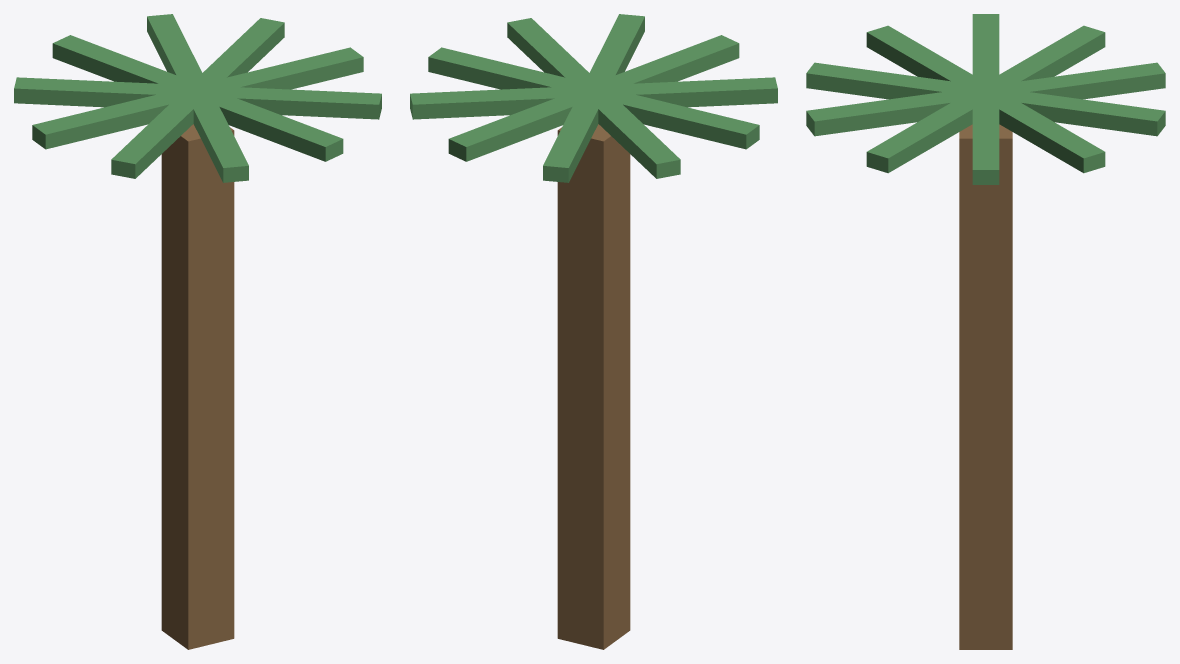
File: bh_cr_date_palm_01_lod0.glb
The picture shows the model from 3 angles, left to right: view 1: azimuth 30°, elevation 25°; view 2: azimuth 150°, elevation 25°; view 3: azimuth 270°, elevation 25°; orthographic projection.
Visible parts, largest first — view 1: bh_cr_date_palm_01_frond_0, bh_cr_date_palm_01_trunk_1, bh_cr_date_palm_01_trunk_2, bh_cr_date_palm_01_trunk_4, bh_cr_date_palm_01_trunk_0, bh_cr_date_palm_01_trunk_3, bh_cr_date_palm_01_frond_1, bh_cr_date_palm_01_frond_4, bh_cr_date_palm_01_frond_3, bh_cr_date_palm_01_trunk_5, bh_cr_date_palm_01_frond_2, bh_cr_date_palm_01_frond_9 (+4 smaller); view 2: bh_cr_date_palm_01_frond_1, bh_cr_date_palm_01_trunk_1, bh_cr_date_palm_01_trunk_2, bh_cr_date_palm_01_trunk_4, bh_cr_date_palm_01_trunk_0, bh_cr_date_palm_01_trunk_3, bh_cr_date_palm_01_frond_2, bh_cr_date_palm_01_frond_0, bh_cr_date_palm_01_trunk_5, bh_cr_date_palm_01_frond_9, bh_cr_date_palm_01_frond_3, bh_cr_date_palm_01_frond_5 (+4 smaller); view 3: bh_cr_date_palm_01_frond_2, bh_cr_date_palm_01_frond_3, bh_cr_date_palm_01_frond_4, bh_cr_date_palm_01_frond_6, bh_cr_date_palm_01_frond_1, bh_cr_date_palm_01_frond_0, bh_cr_date_palm_01_trunk_0, bh_cr_date_palm_01_trunk_1, bh_cr_date_palm_01_trunk_2, bh_cr_date_palm_01_trunk_3, bh_cr_date_palm_01_trunk_4, bh_cr_date_palm_01_frond_7 (+4 smaller).
Part boxes in pixels (x1=…): bh_cr_date_palm_01_frond_0: x1=32, y1=48, x2=363, y2=148; bh_cr_date_palm_01_trunk_1: x1=161, y1=461, x2=234, y2=564; bh_cr_date_palm_01_trunk_2: x1=161, y1=376, x2=234, y2=480; bh_cr_date_palm_01_trunk_4: x1=161, y1=207, x2=234, y2=310; bh_cr_date_palm_01_trunk_0: x1=161, y1=546, x2=234, y2=649; bh_cr_date_palm_01_trunk_3: x1=161, y1=292, x2=234, y2=395; bh_cr_date_palm_01_frond_1: x1=111, y1=18, x2=284, y2=178; bh_cr_date_palm_01_frond_4: x1=14, y1=77, x2=381, y2=117; bh_cr_date_palm_01_frond_3: x1=54, y1=35, x2=343, y2=161; bh_cr_date_palm_01_trunk_5: x1=161, y1=124, x2=234, y2=226; bh_cr_date_palm_01_frond_2: x1=147, y1=14, x2=248, y2=182; bh_cr_date_palm_01_frond_9: x1=14, y1=77, x2=381, y2=119; bh_cr_date_palm_01_frond_1: x1=410, y1=77, x2=777, y2=118; bh_cr_date_palm_01_trunk_1: x1=557, y1=461, x2=630, y2=564; bh_cr_date_palm_01_trunk_2: x1=557, y1=376, x2=630, y2=480; bh_cr_date_palm_01_trunk_4: x1=557, y1=207, x2=630, y2=310; bh_cr_date_palm_01_trunk_0: x1=557, y1=546, x2=630, y2=649; bh_cr_date_palm_01_trunk_3: x1=557, y1=292, x2=630, y2=395; bh_cr_date_palm_01_frond_2: x1=448, y1=35, x2=736, y2=161; bh_cr_date_palm_01_frond_0: x1=429, y1=47, x2=758, y2=149; bh_cr_date_palm_01_trunk_5: x1=557, y1=124, x2=630, y2=226; bh_cr_date_palm_01_frond_9: x1=516, y1=18, x2=680, y2=178; bh_cr_date_palm_01_frond_3: x1=543, y1=14, x2=644, y2=182; bh_cr_date_palm_01_frond_5: x1=428, y1=57, x2=759, y2=149; bh_cr_date_palm_01_frond_2: x1=806, y1=62, x2=1165, y2=135; bh_cr_date_palm_01_frond_3: x1=806, y1=62, x2=1165, y2=135; bh_cr_date_palm_01_frond_4: x1=866, y1=26, x2=1086, y2=173; bh_cr_date_palm_01_frond_6: x1=866, y1=28, x2=1105, y2=170; bh_cr_date_palm_01_frond_1: x1=878, y1=25, x2=1105, y2=173; bh_cr_date_palm_01_frond_0: x1=972, y1=14, x2=999, y2=184; bh_cr_date_palm_01_trunk_0: x1=959, y1=564, x2=1012, y2=649; bh_cr_date_palm_01_trunk_1: x1=959, y1=479, x2=1012, y2=564; bh_cr_date_palm_01_trunk_2: x1=959, y1=394, x2=1012, y2=479; bh_cr_date_palm_01_trunk_3: x1=959, y1=309, x2=1012, y2=394; bh_cr_date_palm_01_trunk_4: x1=959, y1=224, x2=1012, y2=308; bh_cr_date_palm_01_frond_7: x1=807, y1=63, x2=1165, y2=136.
Bounding box in the file's own units: 3.6 × 5.88 × 3.5.
